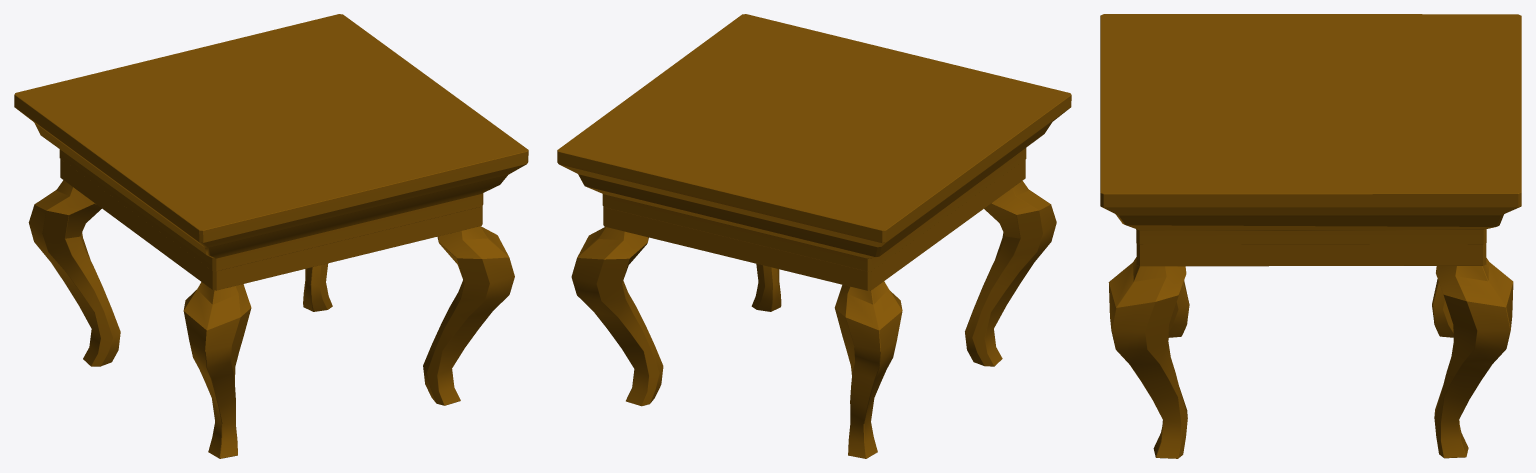
File: Prop_Mesita_Low.fbx
3 views of the same model, side by side, from view 1: azimuth 30°, elevation 25°; view 2: azimuth 150°, elevation 25°; view 3: azimuth 270°, elevation 25° (orthographic). The views are drawn at different scales.
Parts seen in each view (by area): view 1: pCube4; view 2: pCube4; view 3: pCube4.
Boxes of the visible parts, x1,y1,x2,y2 form: pCube4: (14, 14, 528, 458); pCube4: (557, 14, 1071, 458); pCube4: (1100, 14, 1521, 458).
Bounding box in the file's own units: 78.7 × 58.77 × 77.76.
